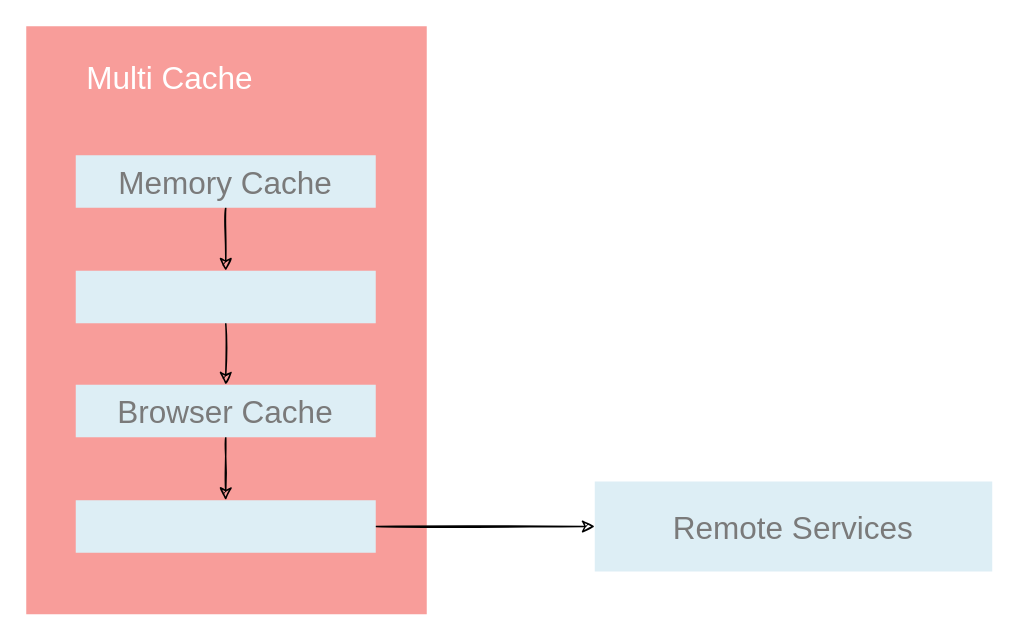
The diagram is 1017 pixels wide and 639 high, and some of its shapes have lost their labels. Each missing label, with the centre of its shape:
"Fetch Data" goes at (225,526).
"Local Cache" goes at (225,296).
